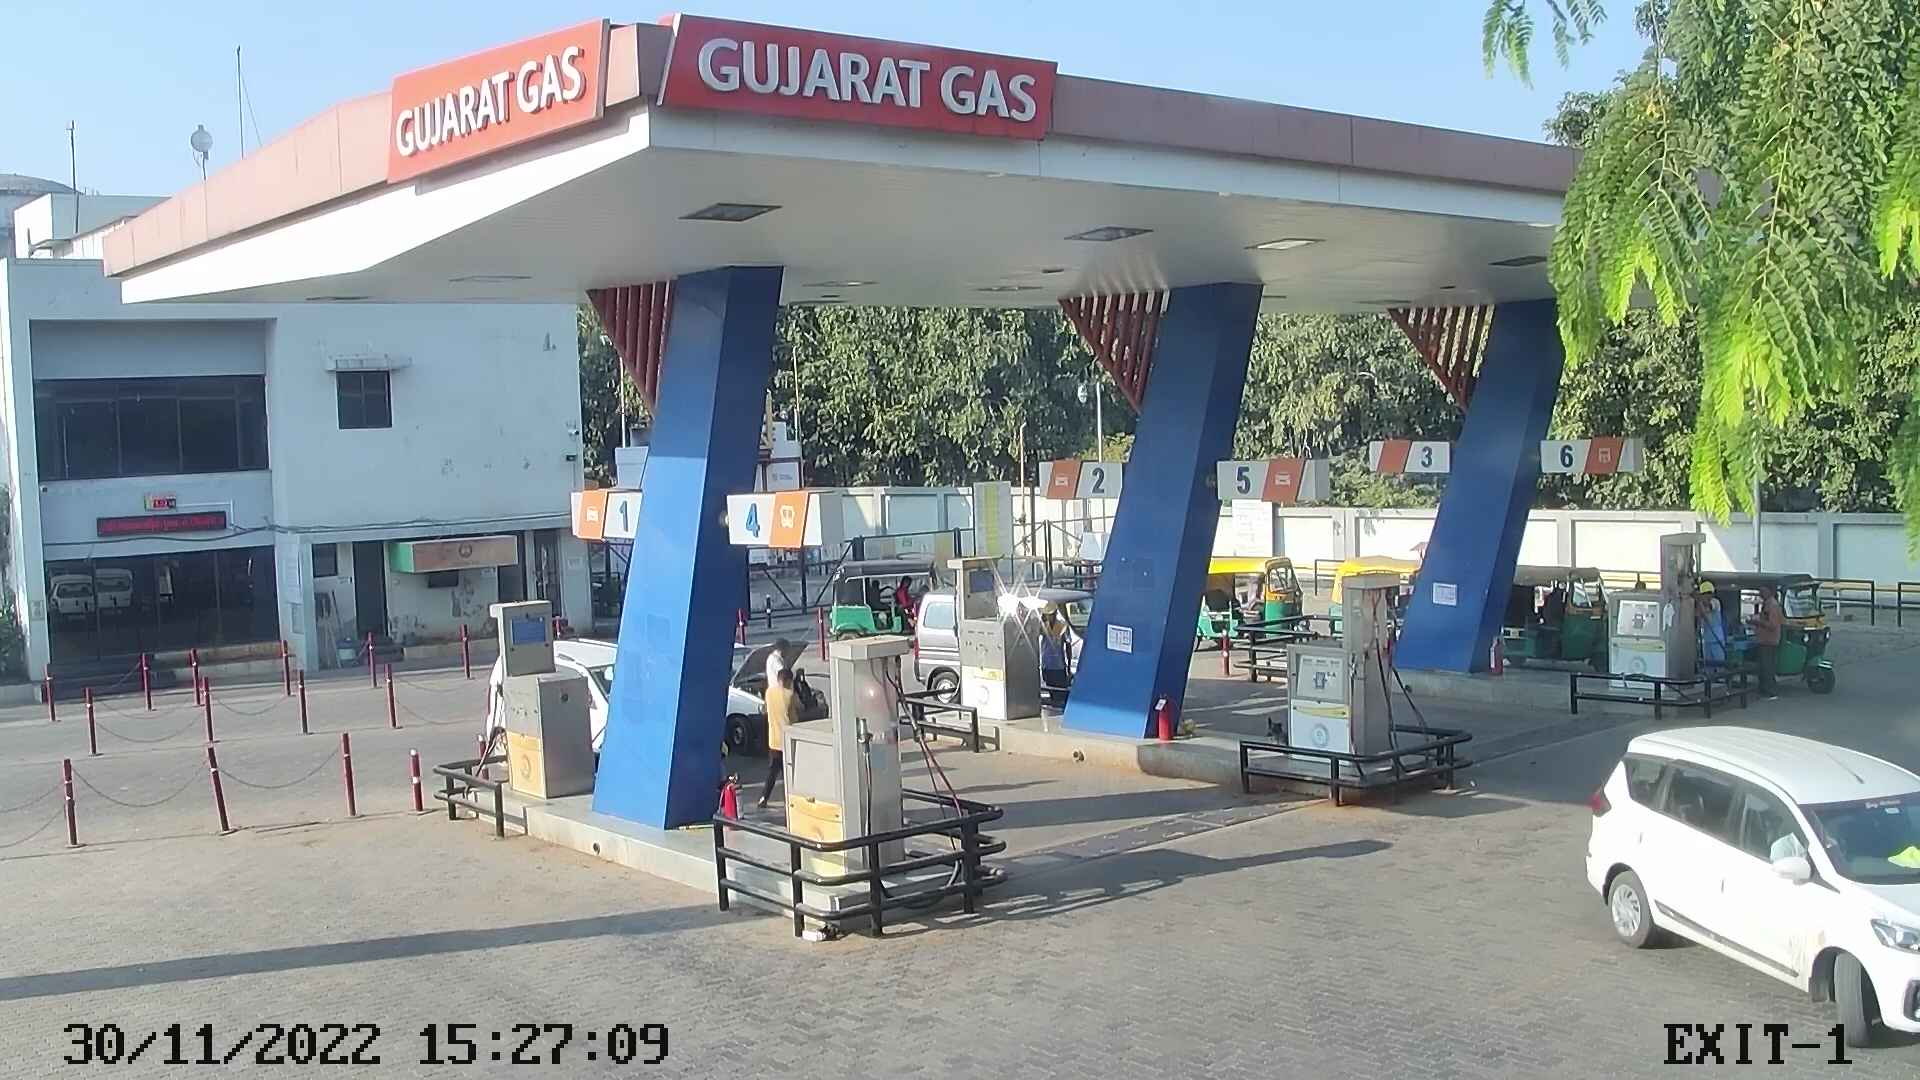Auto: (1684, 556, 1846, 705), (1482, 551, 1618, 690), (1185, 547, 1321, 666), (822, 547, 942, 666), (1320, 547, 1431, 662)
Car: (1572, 716, 1917, 1064), (709, 626, 829, 760), (535, 629, 618, 786), (898, 582, 969, 713)
Others: (1029, 596, 1085, 713), (1689, 575, 1737, 671)
